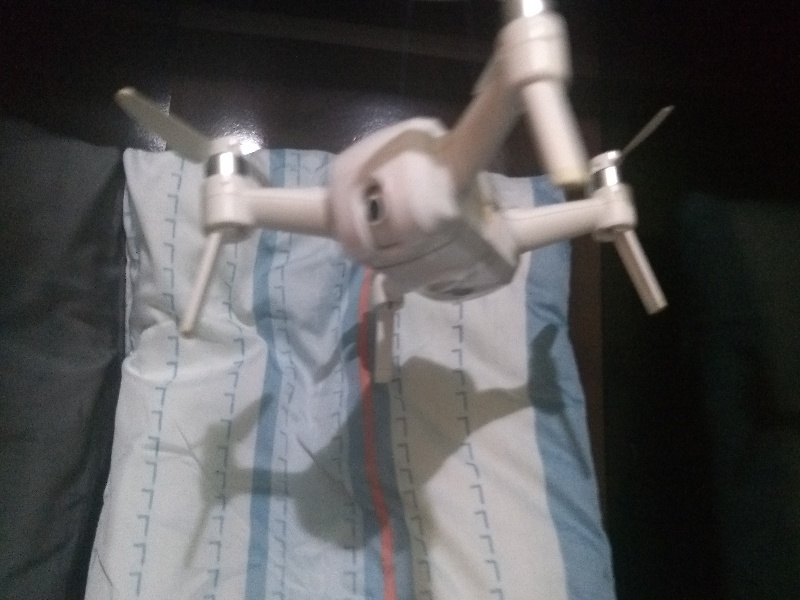drone: (116, 6, 687, 388)
